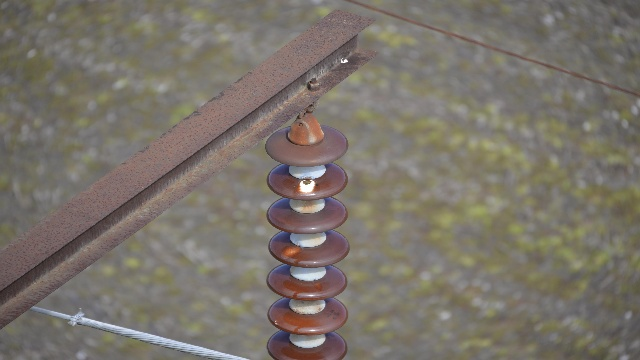insulator_unspecified: (263, 125, 349, 358)
pollution_flashover_local: (279, 243, 304, 259), (298, 177, 317, 193)
